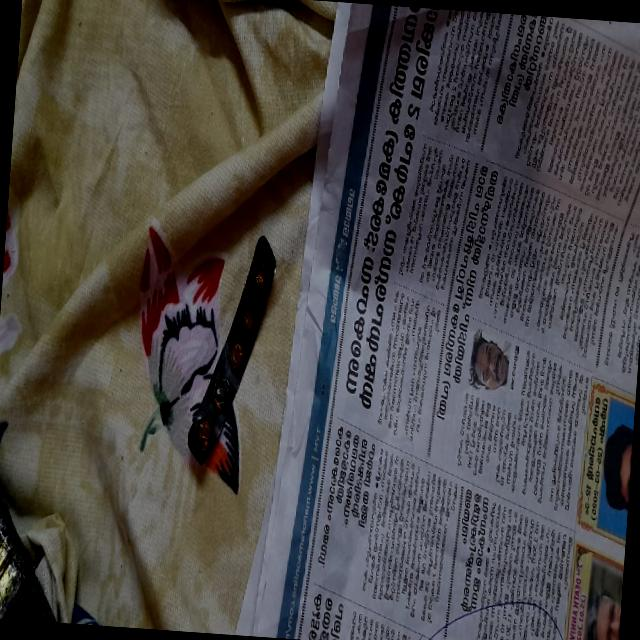Blister_Packs - Non Recyclable: (178, 224, 292, 486)
